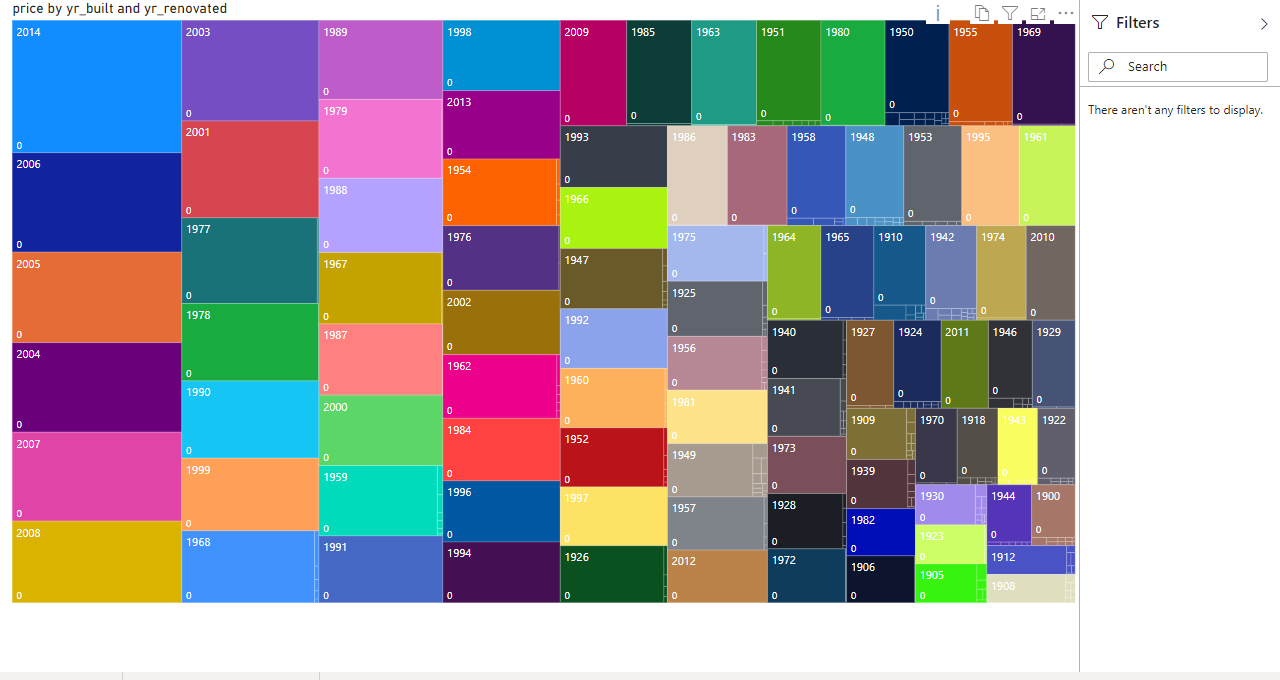

Layout of this report page (visuals, bound fields, positions):
{"tool":"powerbi","page":{"name":"Halaman 2","canvas":[1280,720],"ordinal":1},"visuals":[{"type":"treemap","fields":{"Values":["Sum(Worksheet.price)"],"Group":["Worksheet.yr_built"],"Details":["Worksheet.yr_renovated"]},"box":[9.5,0,1270.5,719.5],"z":0}]}

Visuals, with their boxes on the page's 1280x720 design canvas (x1, y1, x2, y2). These are canvas units, not pixel positions in the 1280x680 screenshot, which may show the page scaled, cropped or inside an application window:
treemap - Sum(Worksheet.price) x Worksheet.yr_built: left=10, top=0, right=1280, bottom=720
